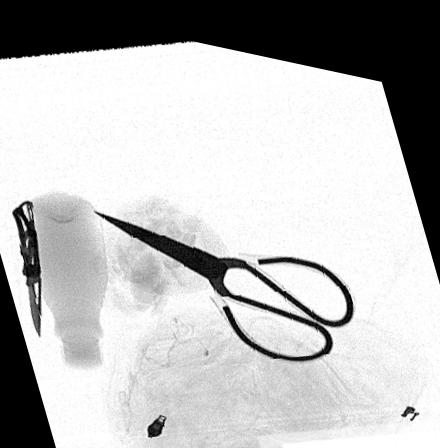Knife: (10, 198, 40, 334)
Scissors: (92, 204, 351, 348)
